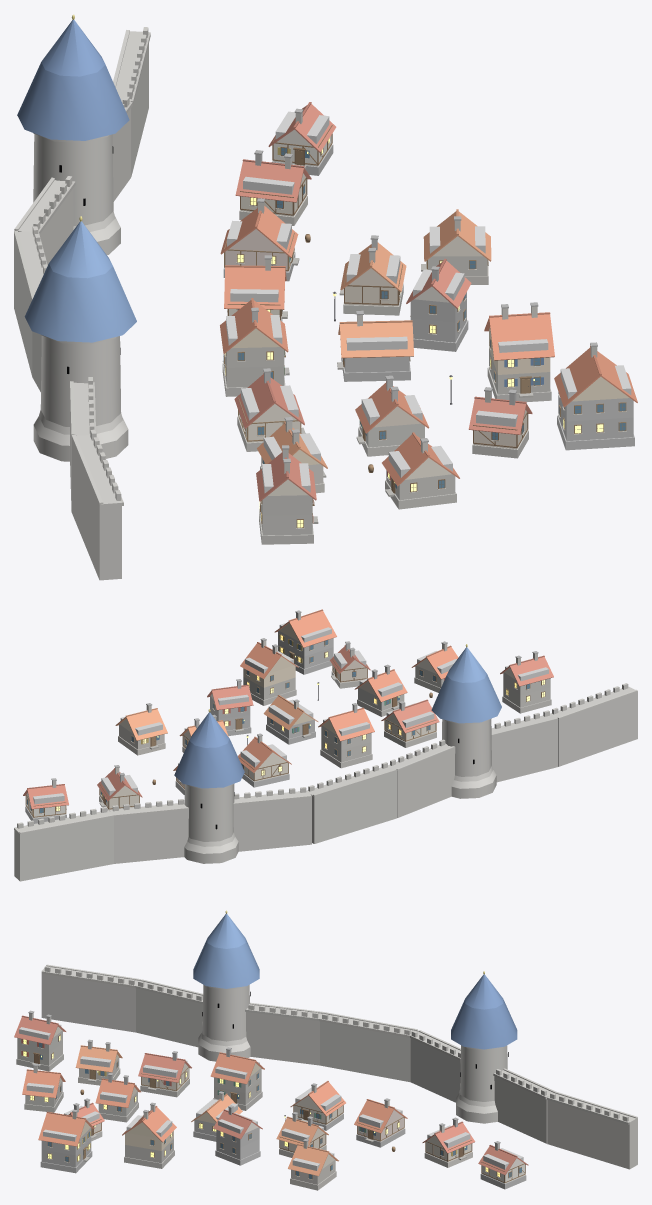
The model's file is struct_6_7.glb.
The picture shows the model from 3 angles, top to bottom: view 1: azimuth 30°, elevation 25°; view 2: azimuth 150°, elevation 25°; view 3: azimuth 270°, elevation 25°; orthographic projection. The views are drawn at different scales.
Parts seen in each view (by area): view 1: HousesNear, Landmarks, Occluder-occonly, HousesFar; view 2: Landmarks, HousesNear, Occluder-occonly; view 3: Landmarks, HousesNear, Occluder-occonly, HousesFar.
Part boxes in pixels (<box>): HousesNear: <box>220,102,637,544</box>; Landmarks: <box>14,14,452,580</box>; Occluder-occonly: <box>226,111,631,493</box>; HousesFar: <box>282,150,538,488</box>; Landmarks: <box>14,644,637,881</box>; HousesNear: <box>23,609,553,823</box>; Occluder-occonly: <box>33,622,548,804</box>; Landmarks: <box>41,910,637,1169</box>; HousesNear: <box>14,1010,528,1190</box>; Occluder-occonly: <box>19,1024,523,1170</box>; HousesFar: <box>40,1014,467,1154</box>.
Bounding box in the file's own units: 92.58 × 32.79 × 132.
